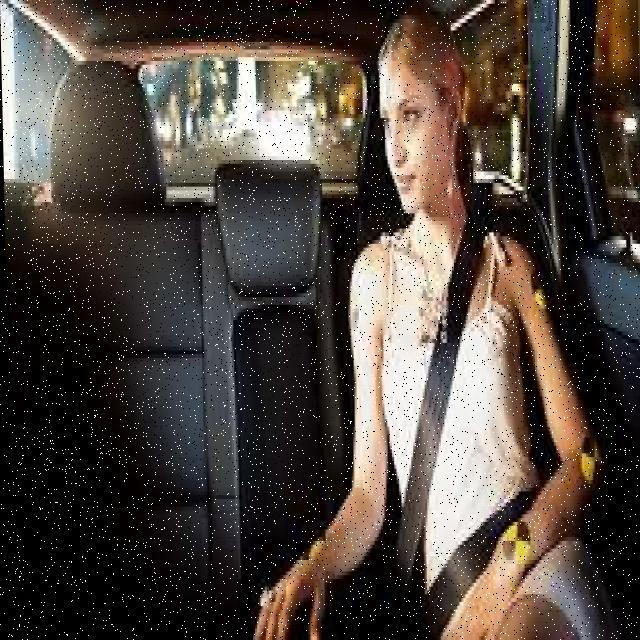seatbelt: (368, 222, 551, 591)
